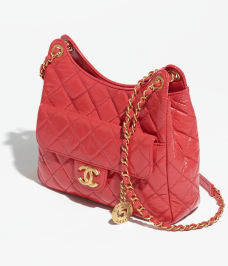channel: (31, 44, 212, 244), (121, 89, 153, 187), (64, 166, 108, 196)
